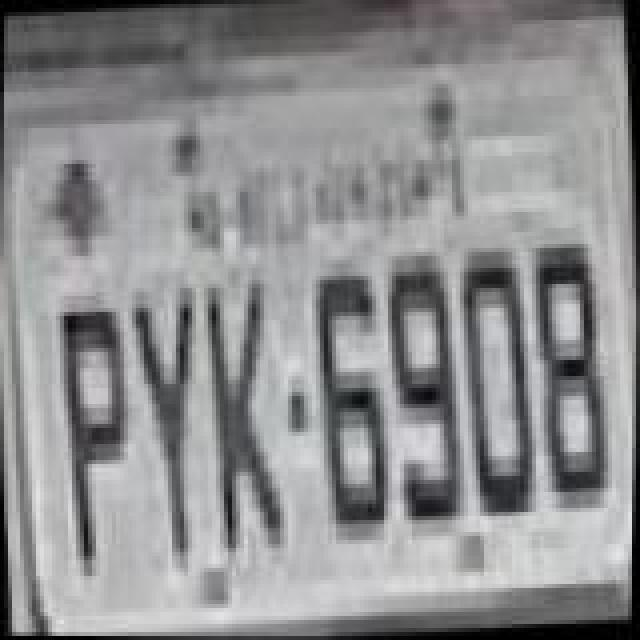6: (310, 262, 402, 534)
8: (528, 242, 616, 510)
9: (382, 254, 474, 530)
K: (200, 282, 296, 558)
O: (456, 248, 544, 524)
P: (54, 292, 146, 580)
Y: (126, 286, 218, 570)
